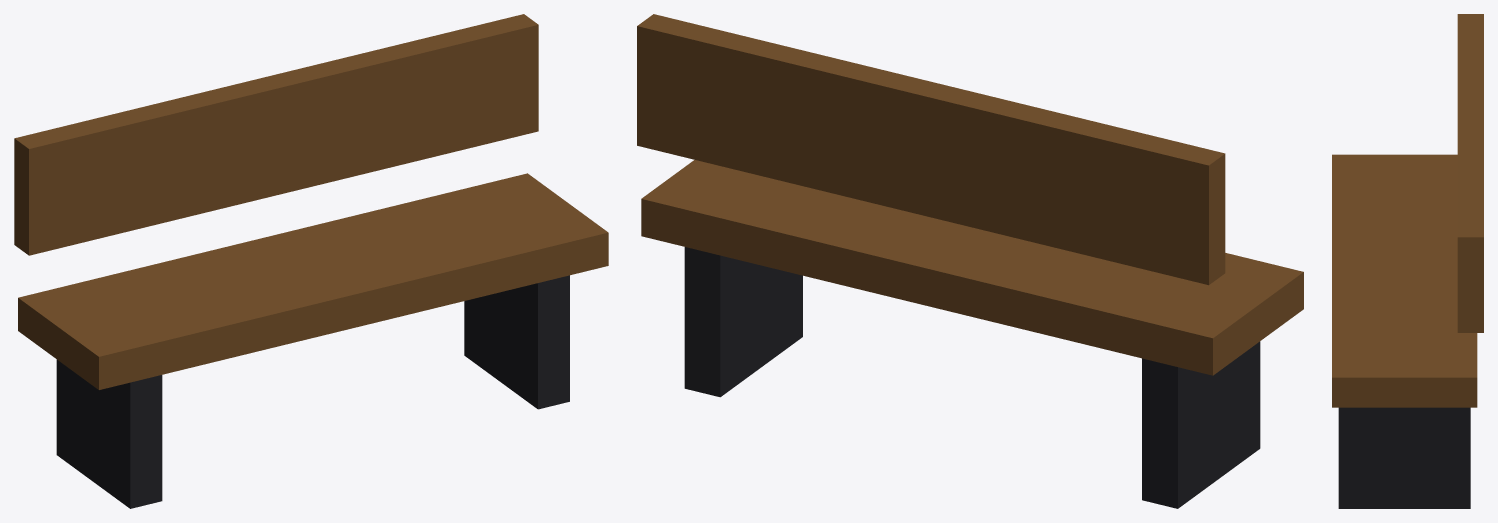
The model's file is p_bench.glb.
3 renders of one model, left to right at view 1: azimuth 30°, elevation 25°; view 2: azimuth 150°, elevation 25°; view 3: azimuth 270°, elevation 25°, orthographic. The views are drawn at different scales.
Visible parts, largest first — view 1: p_bench; view 2: p_bench; view 3: p_bench.
Part boxes in pixels (x1,y1,x2,y2): p_bench: (14, 14, 608, 508); p_bench: (637, 14, 1303, 508); p_bench: (1332, 14, 1483, 508).
Bounding box in the file's own units: 0.8 × 0.48 × 0.23.
